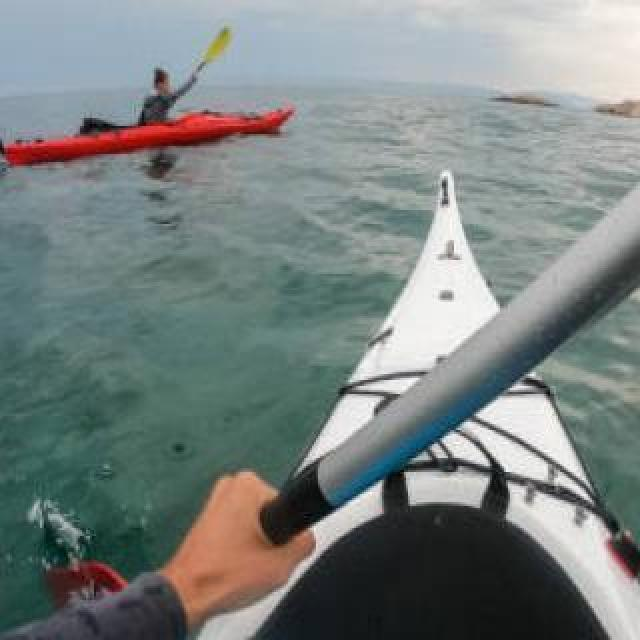kayak: (198, 374, 640, 640), (295, 176, 496, 478), (0, 109, 293, 168)
